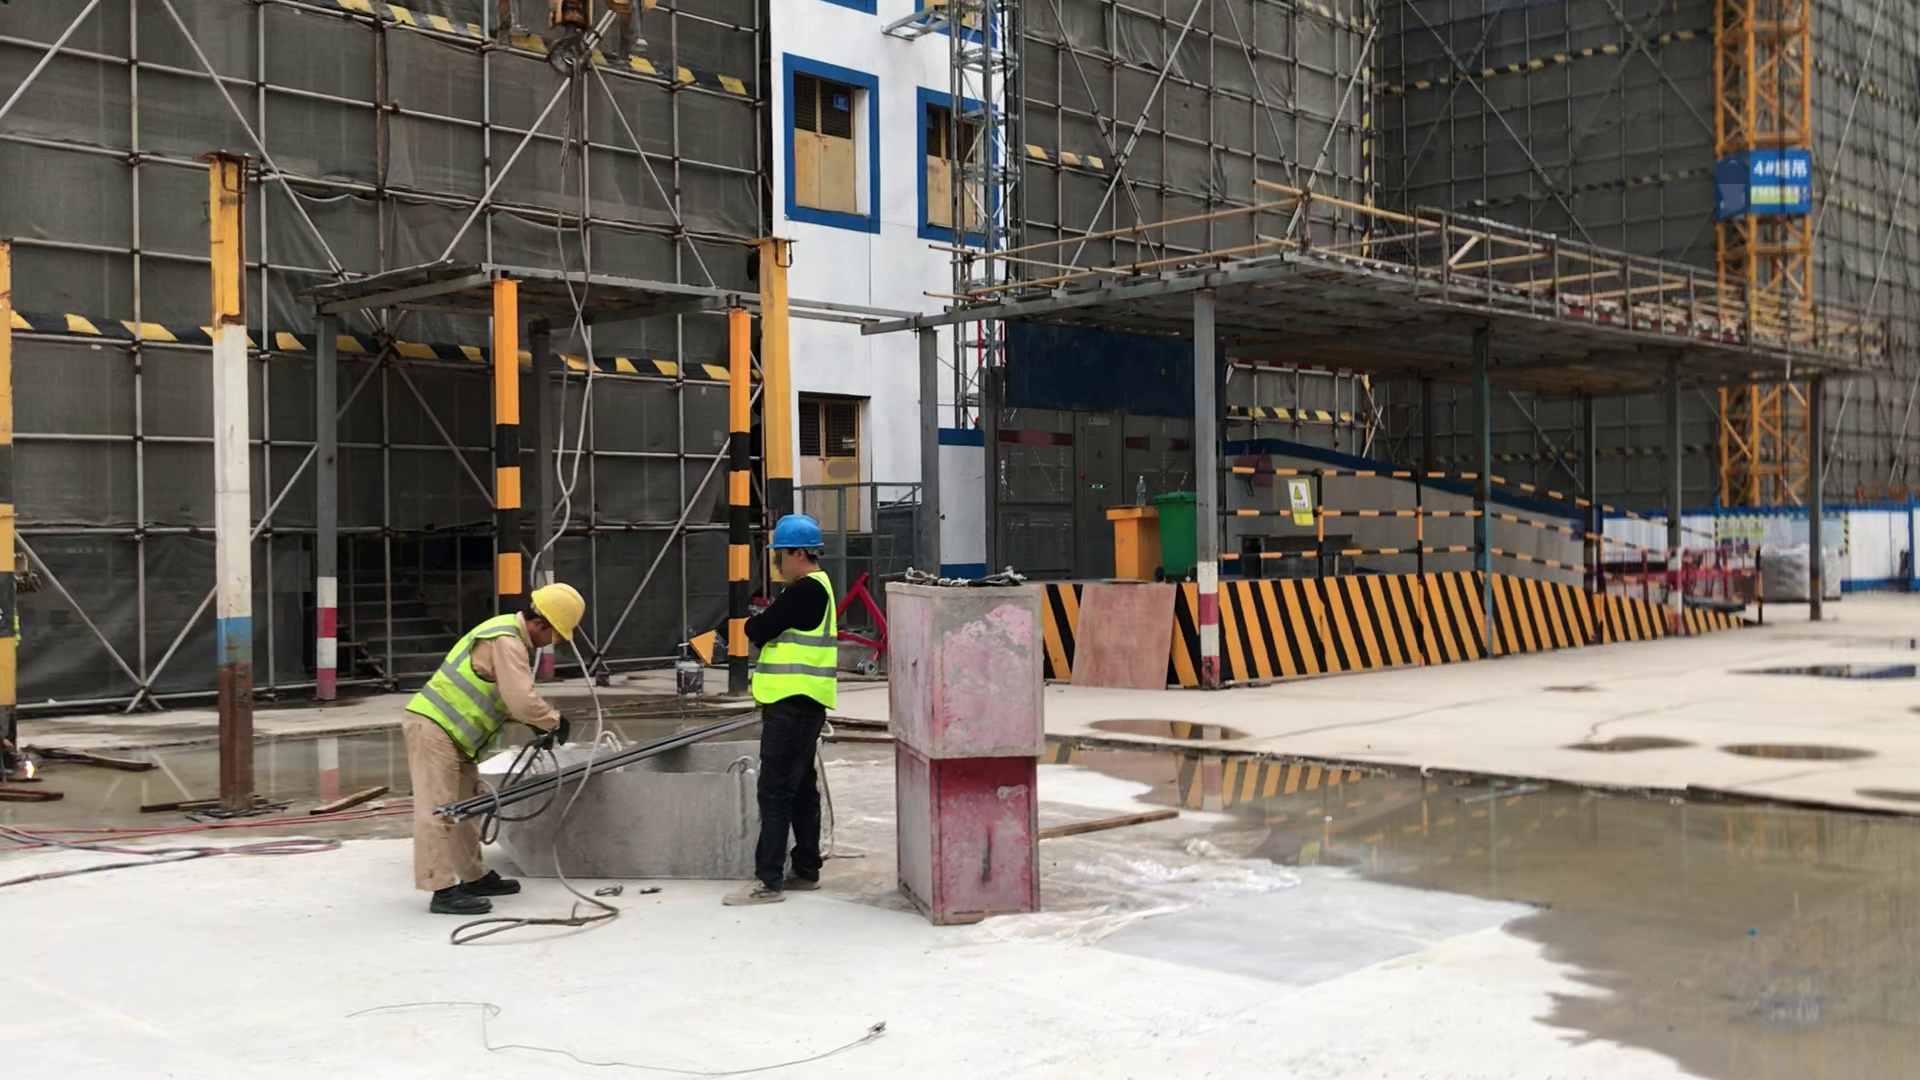fence: (1217, 457, 1777, 638)
helmet: (515, 570, 588, 654), (763, 515, 846, 568)
hopper: (463, 724, 848, 896)
person: (398, 554, 593, 920), (729, 497, 856, 919)
rebar: (431, 732, 742, 841)
slogan: (1698, 127, 1835, 238), (1700, 500, 1863, 573), (1269, 473, 1321, 539)
vest: (397, 608, 544, 776), (745, 569, 853, 720)
